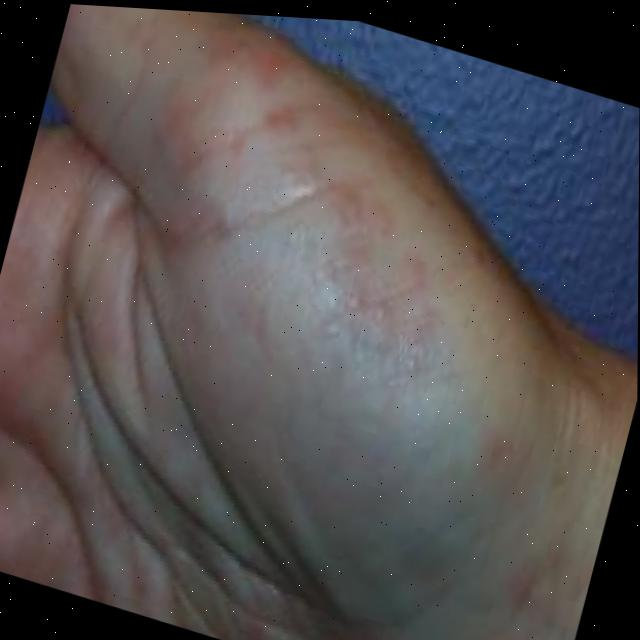Eczema: (181, 60, 470, 386), (464, 461, 611, 640), (214, 562, 391, 640)
